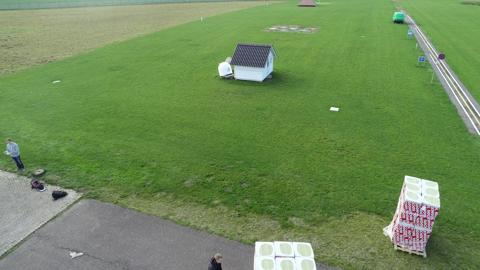RockwoolPallet: (255, 240, 316, 270)
